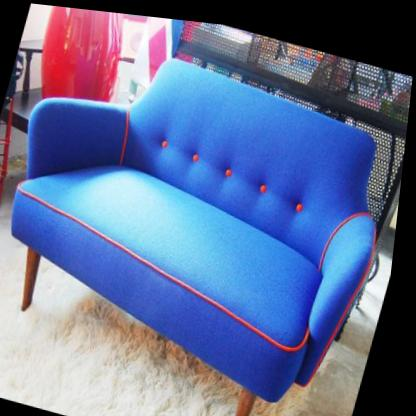Sofa: (0, 16, 415, 416)
